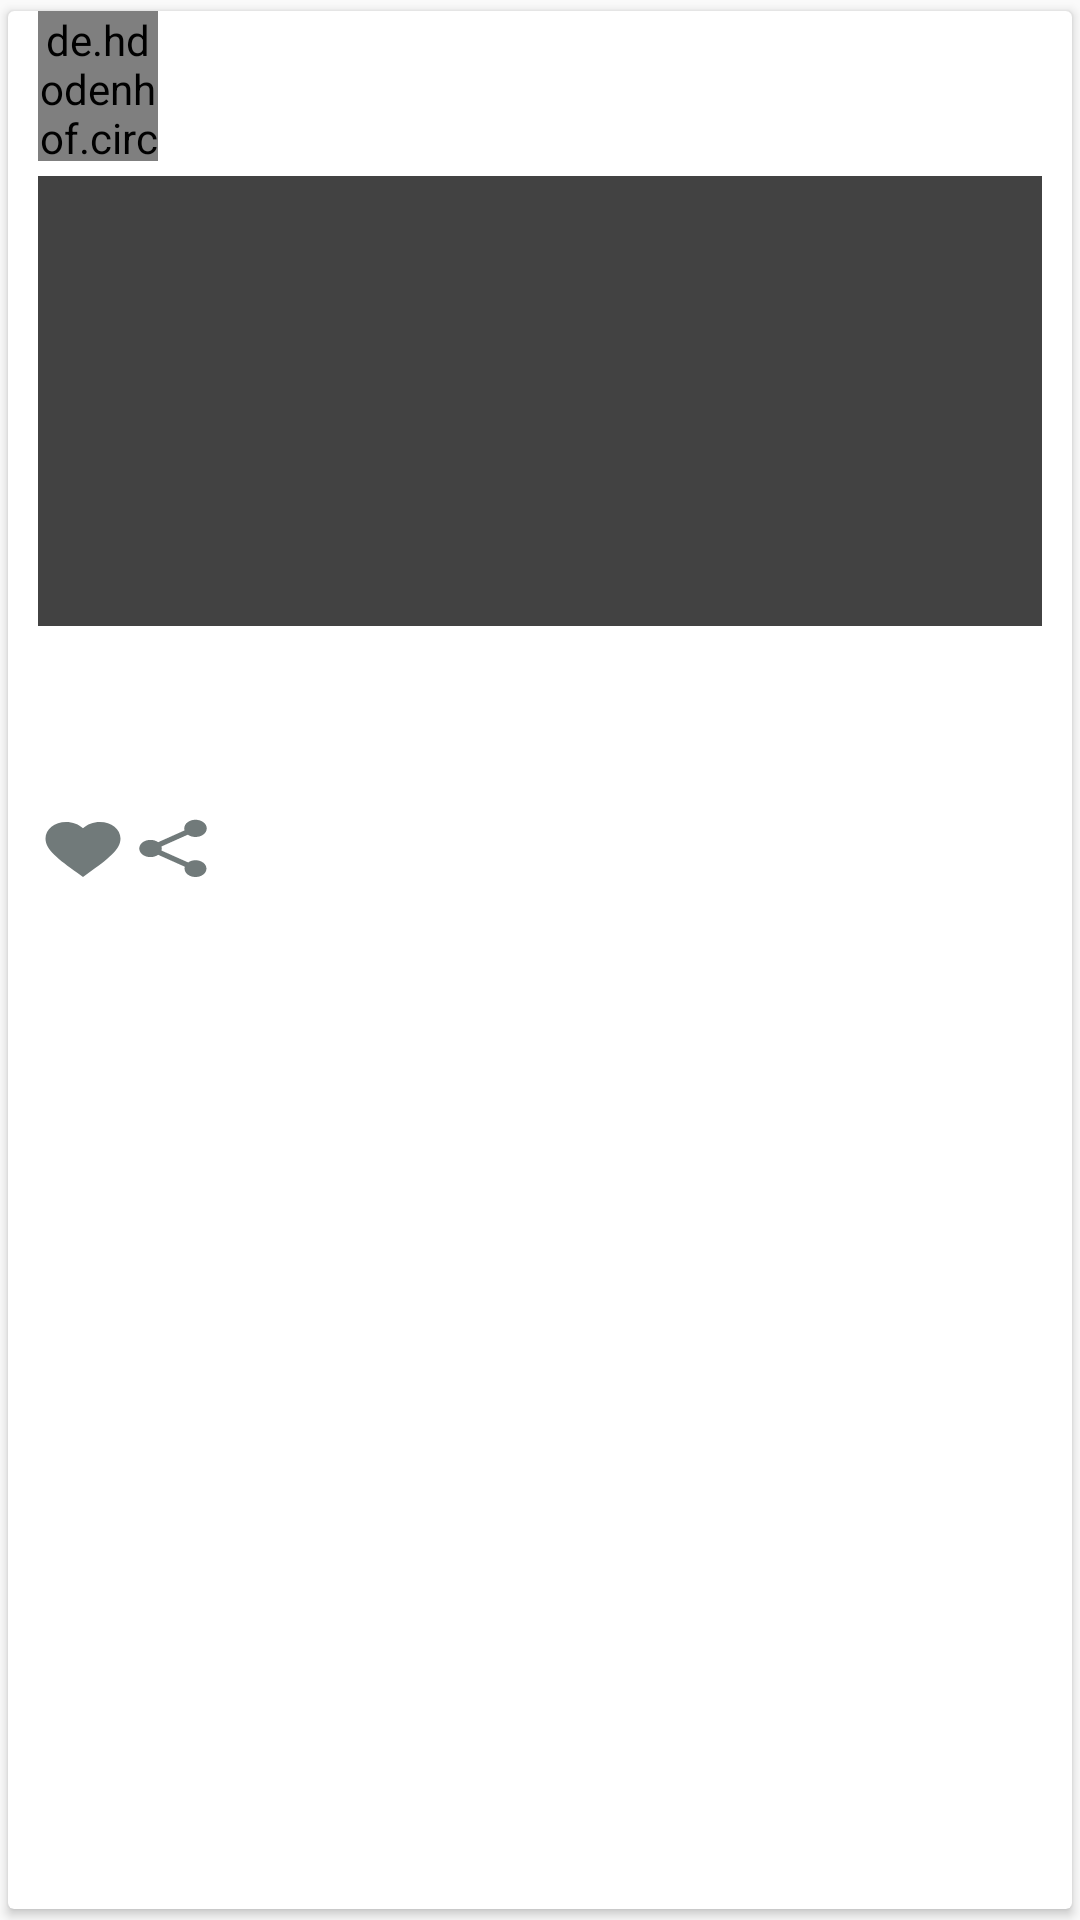

Screen size 1080px×1920px. Icon name, then its center in pixels as (x=x, y=y):
favorite: (x=83, y=849)
share: (x=173, y=848)
